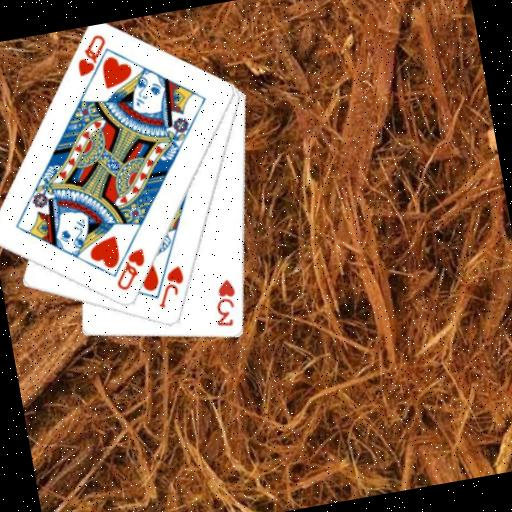3H: (206, 275, 242, 330)
JH: (149, 262, 190, 311)
QH: (69, 30, 117, 91), (108, 245, 152, 294)
